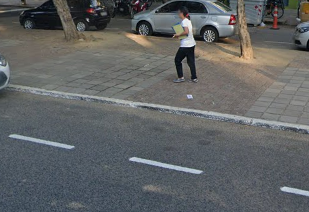vag51: (16, 50, 212, 153)
